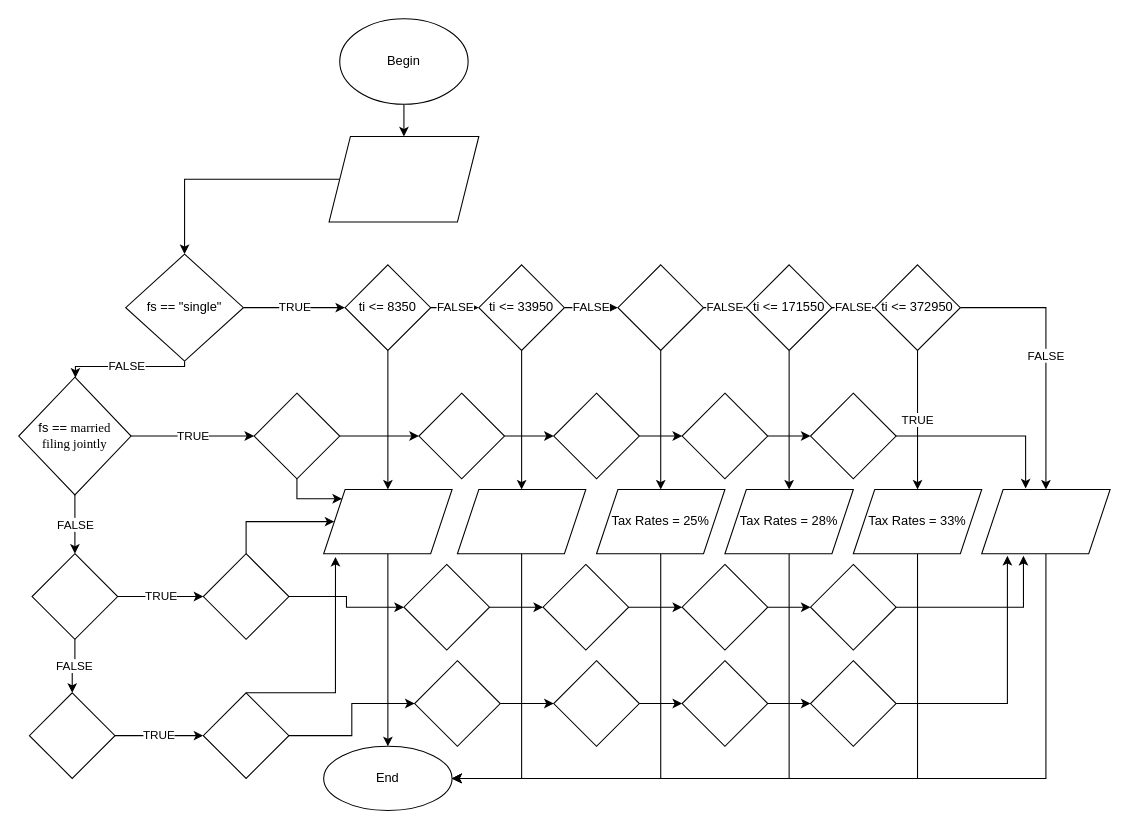
The diagram is 1129 pixels wide and 829 high, and some of its shapes have lost their labels. Each missing label, with the box of its shape:
Nhập filing status và taxable income (fs,ti): (328, 135, 479, 222)
Tax Rates = 10%: (323, 488, 452, 554)
Tax Rates = 15%: (456, 488, 586, 554)
Tax Rates = 35%: (981, 488, 1110, 554)
ti <= 16700: (253, 392, 340, 479)
ti <= 82250: (617, 264, 704, 350)
